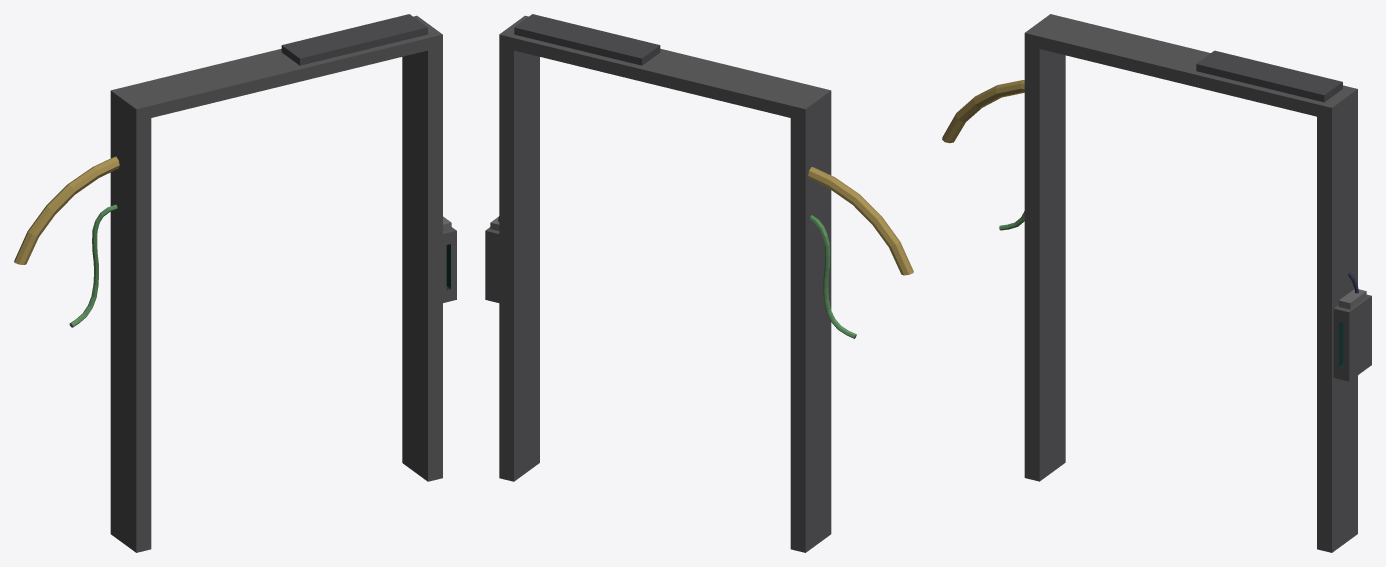
File: door_fbx.fbx
3 views of the same model, side by side, from view 1: azimuth 30°, elevation 25°; view 2: azimuth 150°, elevation 25°; view 3: azimuth 330°, elevation 25° (orthographic).
Visible parts, largest first — view 1: pasted__pCube15; view 2: pasted__pCube15; view 3: pasted__pCube15.
Part boxes in pixels (x1,y1,x2,y2): pasted__pCube15: (14,14,456,552); pasted__pCube15: (485,14,913,552); pasted__pCube15: (942,14,1371,552).
Bounding box in the file's own units: 54.9 × 55.79 × 5.79.
